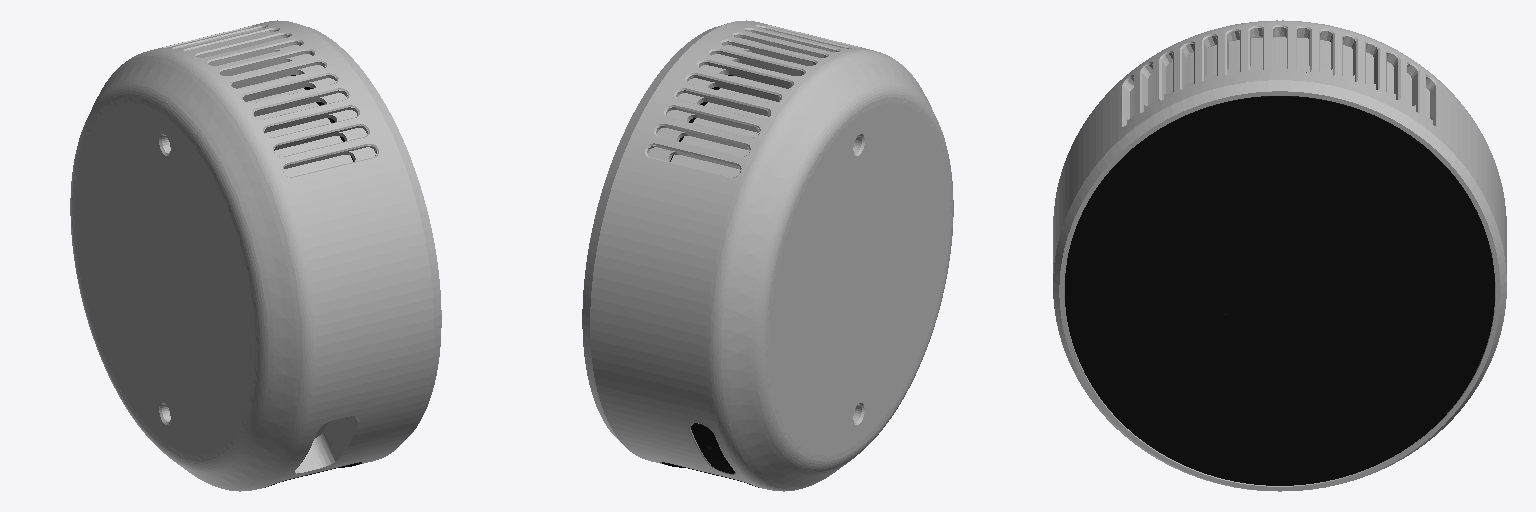
URDF robot description (realsense_d405):
<?xml version="1.0"?>
<robot name="realsense_d405">
  <material name="silver">
     <color rgba="0.75 0.75 0.75 1"/>
  </material>
  <material name="black">
     <color rgba="0.1 0.1 0.1 1"/>
  </material>
  <material name="gold">
     <color rgba="0.9 0.84 0.7 1"/>
  </material>
  <link name="case">
    <visual>
      <origin rpy="0 0 1.57075" xyz="0 0 0"/>
      <material name="silver"/>
      <geometry>
        <mesh filename="assets/case.stl" />
      </geometry>
    </visual>
  </link>
  <link name="inside">
    <visual>
      <origin rpy="0 0 1.57075" xyz="0 0 0"/>
      <material name="black"/>
      <geometry>
        <mesh filename="assets/inside.stl" />
      </geometry>
    </visual>
  </link>
  <joint name="case_to_inside" type="fixed">
    <parent link="case"/>
    <child link="inside"/>
  </joint>
  <link name="front_glass">
    <visual>
      <origin rpy="0 0 1.57075" xyz="0 0 0"/>
      <material name="black"/>
      <geometry>
        <mesh filename="assets/front_glass.stl" />
      </geometry>
    </visual>
  </link>
  <joint name="case_to_front_glass" type="fixed">
    <parent link="case"/>
    <child link="front_glass"/>
  </joint>
  <link name="connector">
    <visual>
      <origin rpy="0 0 1.57075" xyz="0 0 0"/>
      <material name="gold"/>
      <geometry>
        <mesh filename="assets/connector.stl" />
      </geometry>
    </visual>
  </link>
  <joint name="case_to_connector" type="fixed">
    <parent link="case"/>
    <child link="connector"/>
  </joint>
</robot>

--- What the picture shows (computed from the rendered views, not written in the file) ---
Views: 3 orthographic renders of the robot side by side, from view 1: azimuth 30°, elevation 25°; view 2: azimuth 150°, elevation 25°; view 3: azimuth 270°, elevation 25°.
Robot: realsense_d405 — 4 links, 3 joints (3 fixed); root link case; default pose: every joint at zero.
Links seen in each view (by area): view 1: case; view 2: case, inside; view 3: front_glass, case.
Boxes of the visible links, bbox=[...] form: case: bbox=[70, 20, 441, 491]; case: bbox=[582, 20, 953, 491]; inside: bbox=[662, 75, 758, 487]; front_glass: bbox=[1065, 96, 1494, 485]; case: bbox=[1053, 20, 1506, 491].
Size in the robot's own frame: 0.026 by 0.061 by 0.0607 metres.
4 mesh visuals loaded from 4 distinct referenced files (4 binary STL).